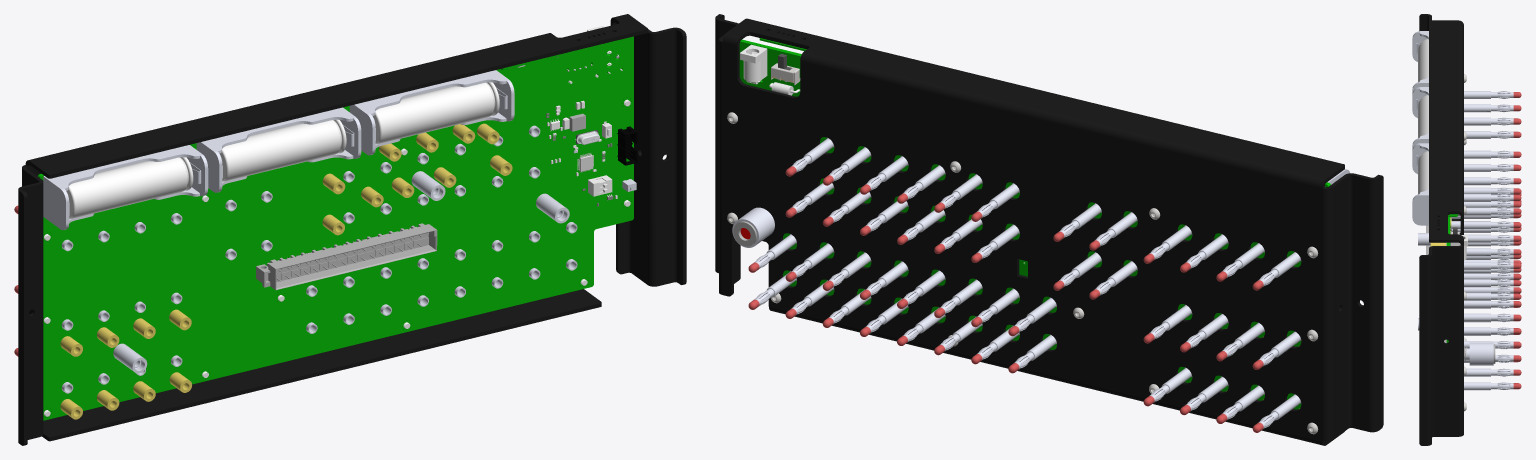
File: Bassforinstrumenttests.glb
3 renders of one model, left to right at view 1: azimuth 30°, elevation 25°; view 2: azimuth 150°, elevation 25°; view 3: azimuth 270°, elevation 25°, orthographic. The views are drawn at different scales.
Visible parts, largest first — view 1: Cut_Extrude1, Cut_Extrude5, NONE.002, Imported2.047, Imported2.048, Imported2.049, NONE.047, NONE.049, NONE.048, NONE.001; view 2: Cut_Extrude5, Cut_Extrude1, Imported1.083, Chamfer3; view 3: Cut_Extrude5, NONE.048, Chamfer3, NONE.004, Imported2.047, Imported2.049, Imported2.048, NONE.049, NONE.044, NONE.020, NONE.027, NONE.011 (+29 smaller).
Boxes of the visible parts, x1,y1,x2,y2 form: Cut_Extrude1: (37, 36, 633, 420); Cut_Extrude5: (18, 14, 686, 445); NONE.002: (256, 223, 437, 290); Imported2.047: (66, 157, 193, 218); Imported2.048: (372, 82, 499, 144); Imported2.049: (219, 119, 346, 181); NONE.047: (43, 145, 208, 230); NONE.049: (196, 107, 361, 192); NONE.048: (349, 70, 514, 155); NONE.001: (617, 126, 637, 165); Cut_Extrude5: (715, 14, 1383, 445); Cut_Extrude1: (739, 39, 1330, 409); Imported1.083: (740, 44, 767, 81); Chamfer3: (732, 207, 774, 247); Cut_Extrude5: (1419, 14, 1463, 445); NONE.048: (1412, 143, 1428, 225); Chamfer3: (1469, 342, 1493, 365); NONE.004: (1450, 219, 1513, 231); Imported2.047: (1418, 39, 1428, 82); Imported2.049: (1418, 95, 1428, 138); Imported2.048: (1418, 151, 1428, 194); NONE.049: (1412, 87, 1428, 149); NONE.044: (1464, 117, 1513, 125); NONE.020: (1464, 104, 1513, 112); NONE.027: (1464, 313, 1513, 321); NONE.011: (1464, 279, 1513, 287).
Size of the model in its own units: 14.13 by 5.43 by 2.69.
